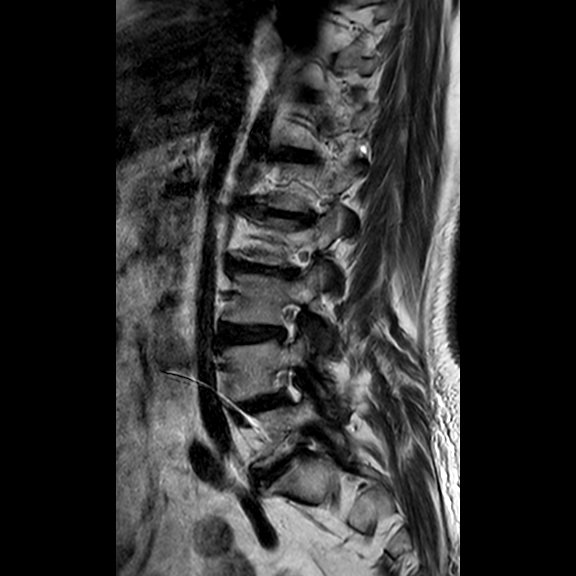RFS0: (264, 293, 310, 356)
RFS1: (261, 357, 315, 411)
